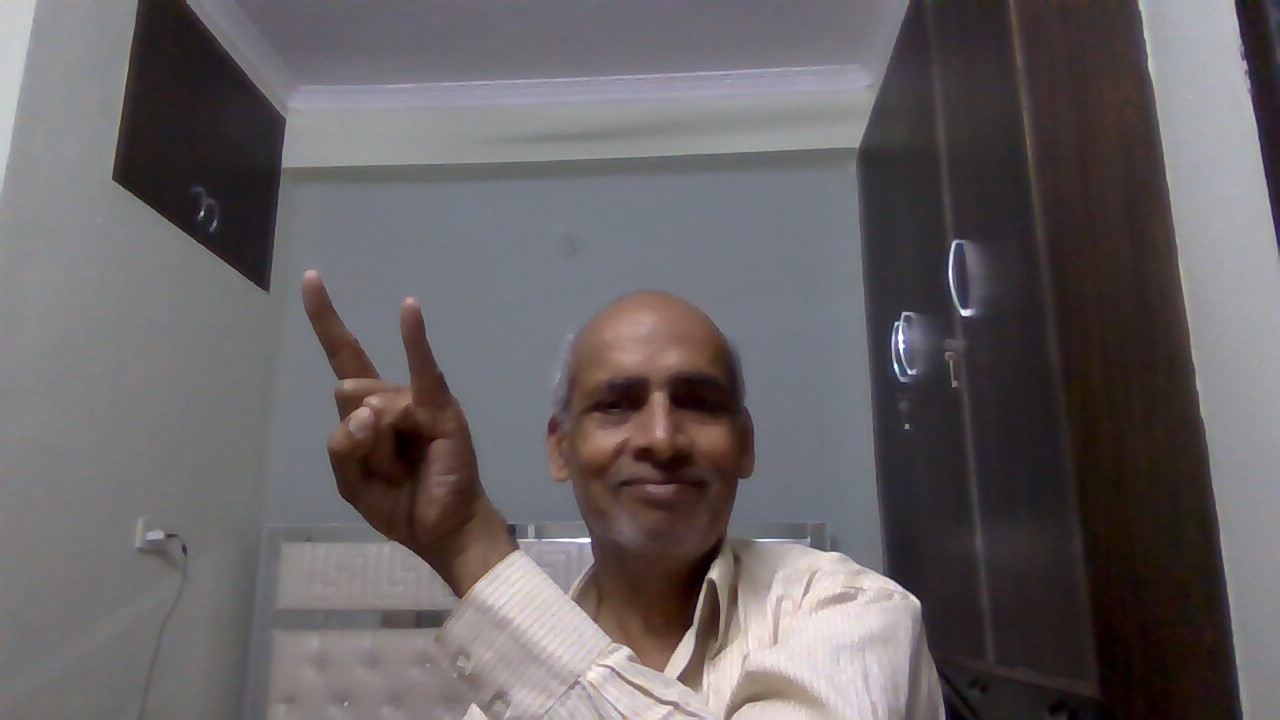Select All: (285, 260, 495, 549)
